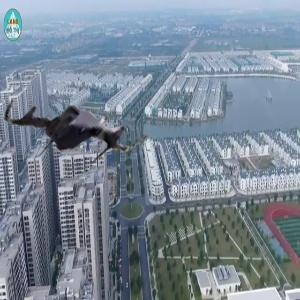drone: (4, 63, 141, 200)
